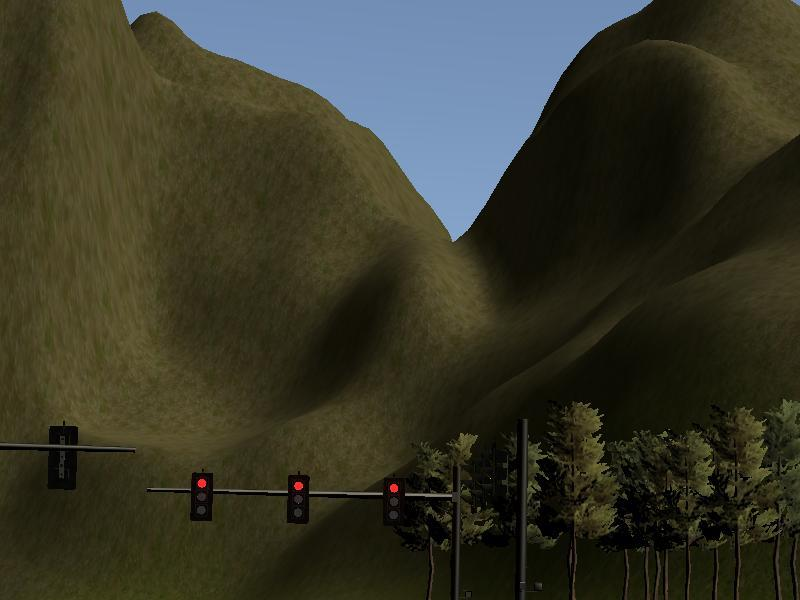Red: (190, 473, 212, 521), (383, 478, 405, 526), (286, 475, 308, 523)
